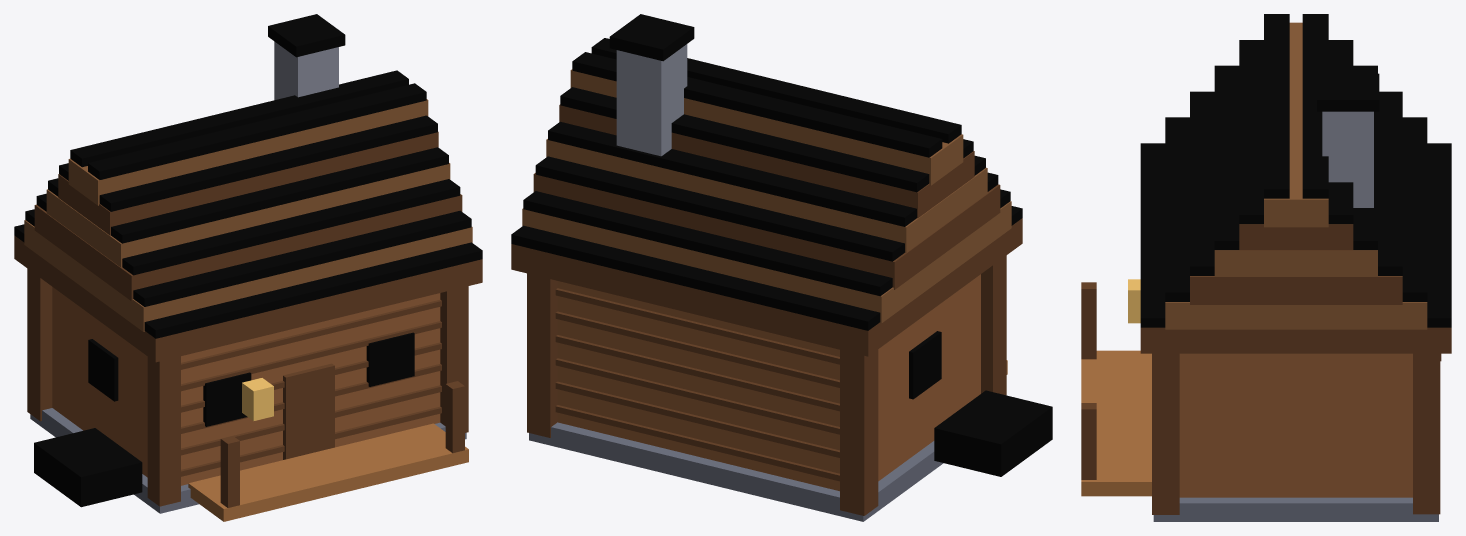
File: LogCabin.obj
The picture shows the model from 3 angles, left to right: view 1: azimuth 30°, elevation 25°; view 2: azimuth 150°, elevation 25°; view 3: azimuth 270°, elevation 25°; orthographic projection. The views are drawn at different scales.
Visible parts, largest first — view 1: LogCabin; view 2: LogCabin; view 3: LogCabin.
Boxes of the visible parts, bbox=[...] form: LogCabin: bbox=[14, 14, 482, 521]; LogCabin: bbox=[511, 14, 1052, 521]; LogCabin: bbox=[1081, 14, 1451, 521].
Bounding box in the file's own units: 18.59 × 16.9 × 14.3.
